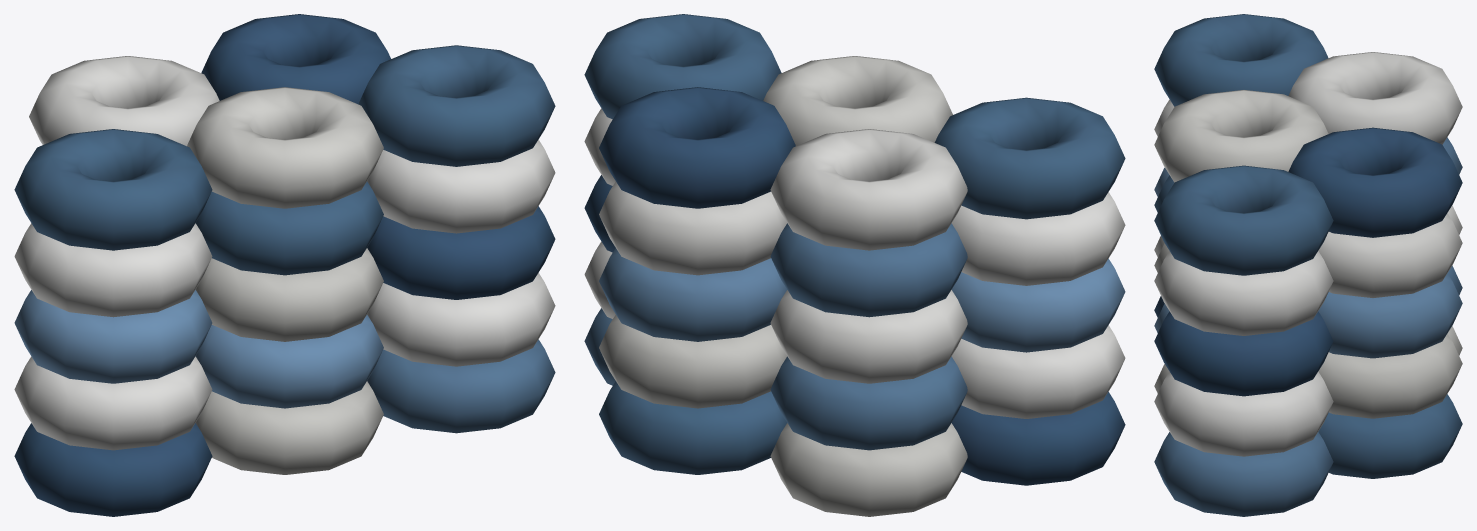
The model's file is barrier_tire_navy_white_02_double.glb.
3 views of the same model, side by side, from view 1: azimuth 30°, elevation 25°; view 2: azimuth 150°, elevation 25°; view 3: azimuth 270°, elevation 25° (orthographic). The views are drawn at different scales.
Visible parts, largest first — view 1: barrier_tire_navy_white_02_double_visual; view 2: barrier_tire_navy_white_02_double_visual; view 3: barrier_tire_navy_white_02_double_visual.
Part boxes in pixels (x1,y1,x2,y2): barrier_tire_navy_white_02_double_visual: (14,14,555,516); barrier_tire_navy_white_02_double_visual: (584,14,1125,516); barrier_tire_navy_white_02_double_visual: (1154,14,1462,516).
Size of the model in its own units: 1.86 by 1.15 by 1.07.
